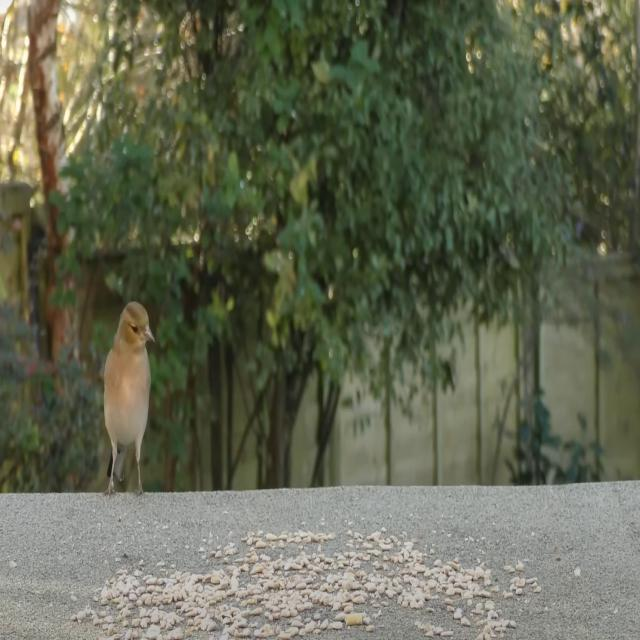beak: (144, 320, 154, 350)
bird: (102, 294, 156, 502)
